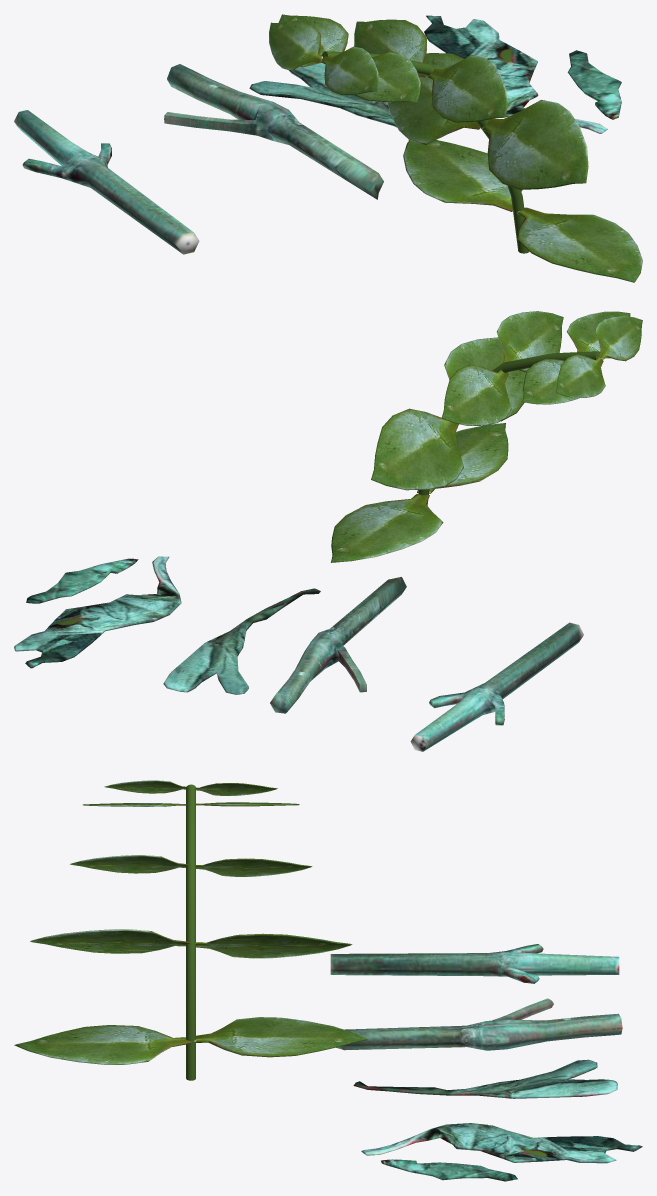
The model's file is chuanxinlian.FBX.
The picture shows the model from 3 angles, top to bottom: view 1: azimuth 30°, elevation 25°; view 2: azimuth 150°, elevation 25°; view 3: azimuth 270°, elevation 25°; orthographic projection. The views are drawn at different scales.
Visible parts, largest first — view 1: Cylinder001, Line007, Cylinder002, Line001, Line005, Line004, Line009, Line006, Line003, Line008, Line011, Line010 (+4 smaller); view 2: Line006, Line004, Cylinder002, Line005, Cylinder001, Line003, Line008, Line009, Line001, Line007, Line010, Line011 (+4 smaller); view 3: Cylinder002, Cylinder001, Line004, Line001, Line005, Line003, Cylinder003, Line007, Line006, Line002, Line009, Line008 (+2 smaller).
Part boxes in pixels (x1=…): Cylinder001: x1=164, y1=64, x2=383, y2=199; Line007: x1=482, y1=100, x2=588, y2=189; Cylinder002: x1=14, y1=110, x2=199, y2=254; Line001: x1=516, y1=207, x2=642, y2=282; Line005: x1=403, y1=140, x2=522, y2=211; Line004: x1=424, y1=15, x2=607, y2=133; Line009: x1=427, y1=55, x2=507, y2=122; Line006: x1=387, y1=53, x2=480, y2=144; Line003: x1=249, y1=63, x2=409, y2=140; Line008: x1=354, y1=19, x2=426, y2=77; Line011: x1=321, y1=46, x2=378, y2=94; Line010: x1=269, y1=21, x2=322, y2=70; Line006: x1=371, y1=408, x2=463, y2=490; Line004: x1=14, y1=556, x2=181, y2=668; Cylinder002: x1=410, y1=622, x2=583, y2=751; Line005: x1=331, y1=494, x2=443, y2=562; Cylinder001: x1=270, y1=577, x2=406, y2=713; Line003: x1=163, y1=588, x2=320, y2=694; Line008: x1=441, y1=364, x2=511, y2=425; Line009: x1=497, y1=311, x2=563, y2=371; Line001: x1=417, y1=423, x2=508, y2=493; Line007: x1=444, y1=337, x2=525, y2=421; Line010: x1=555, y1=354, x2=605, y2=398; Line011: x1=595, y1=316, x2=642, y2=361; Cylinder002: x1=330, y1=944, x2=619, y2=983; Cylinder001: x1=336, y1=998, x2=622, y2=1050; Line004: x1=361, y1=1123, x2=642, y2=1163; Line001: x1=14, y1=1025, x2=191, y2=1064; Line005: x1=193, y1=1017, x2=367, y2=1057; Line003: x1=353, y1=1059, x2=617, y2=1098; Cylinder003: x1=186, y1=784, x2=195, y2=1080; Line007: x1=30, y1=929, x2=190, y2=953; Line006: x1=195, y1=933, x2=352, y2=958; Line002: x1=381, y1=1159, x2=517, y2=1181; Line009: x1=70, y1=855, x2=187, y2=873; Line008: x1=196, y1=858, x2=312, y2=876.
Bounding box in the file's own units: 40.69 × 18.67 × 47.49.
1 material, 1 textured.
